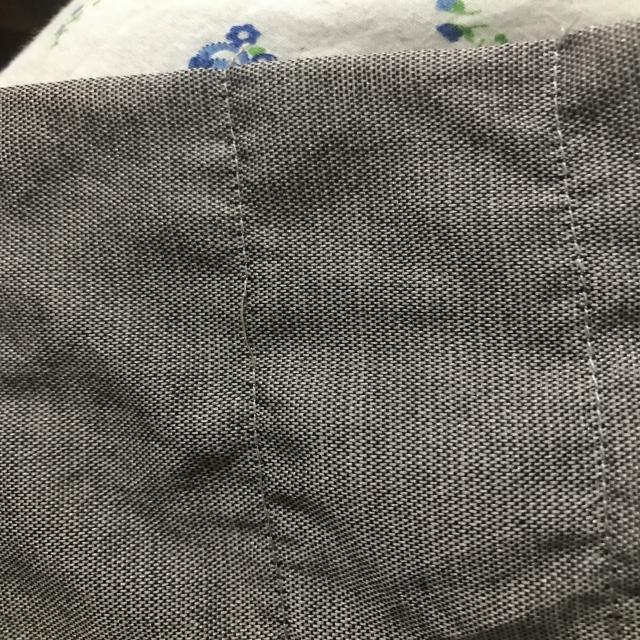good: (224, 162, 256, 241)
skip: (210, 268, 288, 374)
